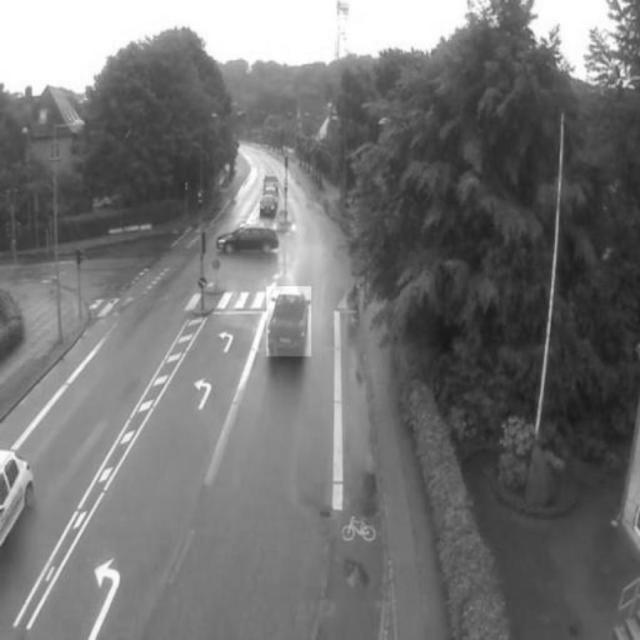vehicle: (266, 287, 311, 357), (217, 219, 278, 256)
